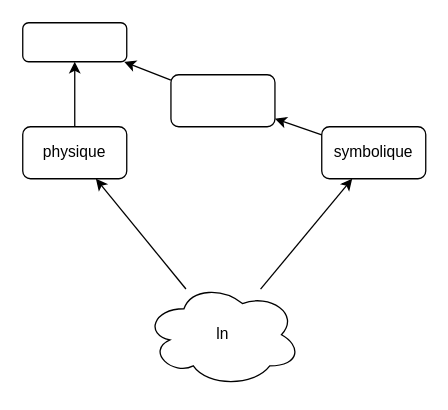
This 448x410 diagram has some shape labels left out. Here are the shapes that lost their labels. From the top down, the centre of each, then its label:
At point 74,41: "inode".
At point 222,100: "source".
